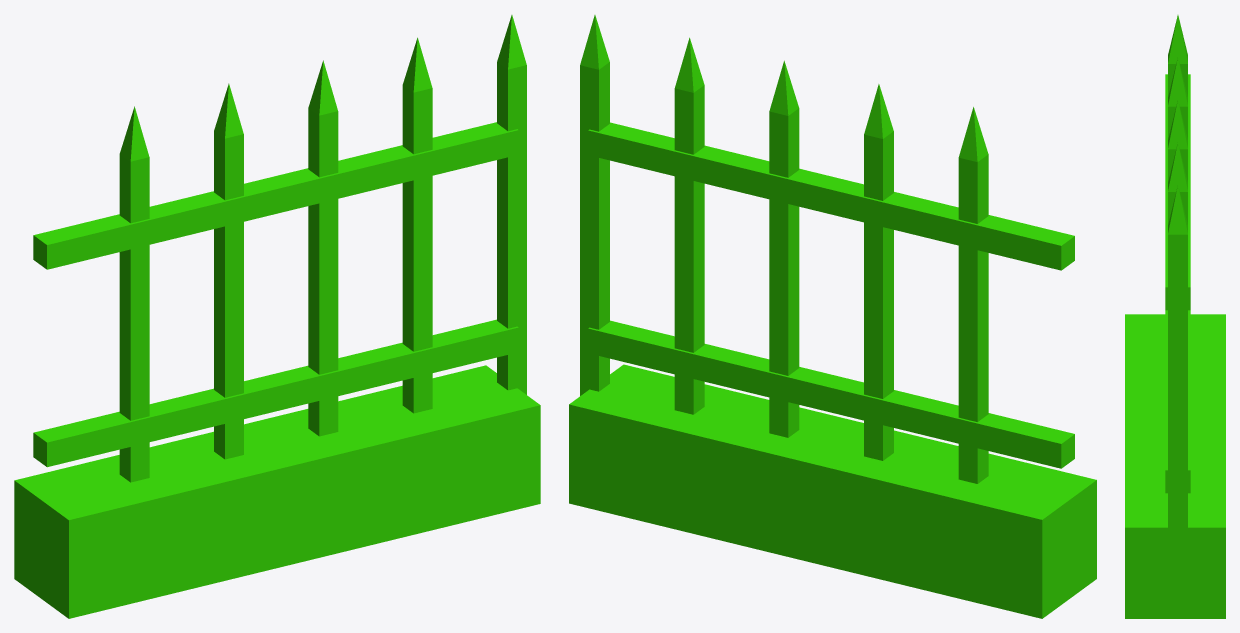
The model's file is fence1_07.fbx.
3 views of the same model, side by side, from view 1: azimuth 30°, elevation 25°; view 2: azimuth 150°, elevation 25°; view 3: azimuth 270°, elevation 25° (orthographic). The views are drawn at different scales.
Visible parts, largest first — view 1: fence1_07; view 2: fence1_07; view 3: fence1_07.
Boxes of the visible parts, x1=… form: fence1_07: x1=14, y1=15, x2=540, y2=618; fence1_07: x1=569, y1=15, x2=1096, y2=618; fence1_07: x1=1125, y1=15, x2=1225, y2=618.
Size of the model in its own units: 102 by 95 by 20.
